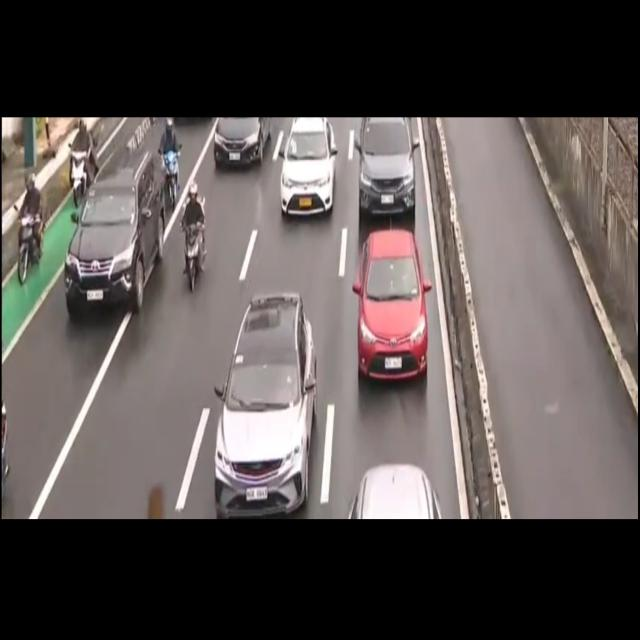Motorcycle: (12, 164, 48, 284), (63, 120, 95, 203), (183, 181, 204, 290), (165, 114, 179, 213)
SUV: (216, 302, 317, 505), (68, 148, 162, 308), (358, 111, 414, 222)
Sedan: (352, 220, 426, 384), (283, 120, 336, 227), (209, 121, 272, 166)
